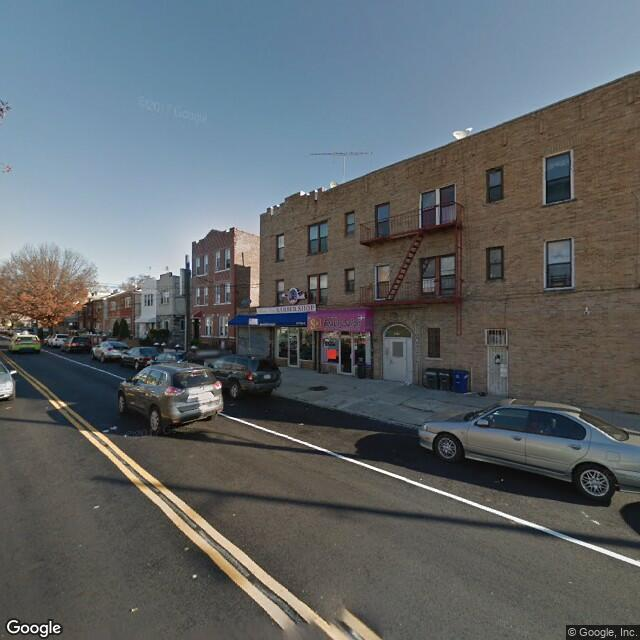litter: (110, 423, 117, 430), (104, 428, 111, 435), (298, 419, 305, 425)
